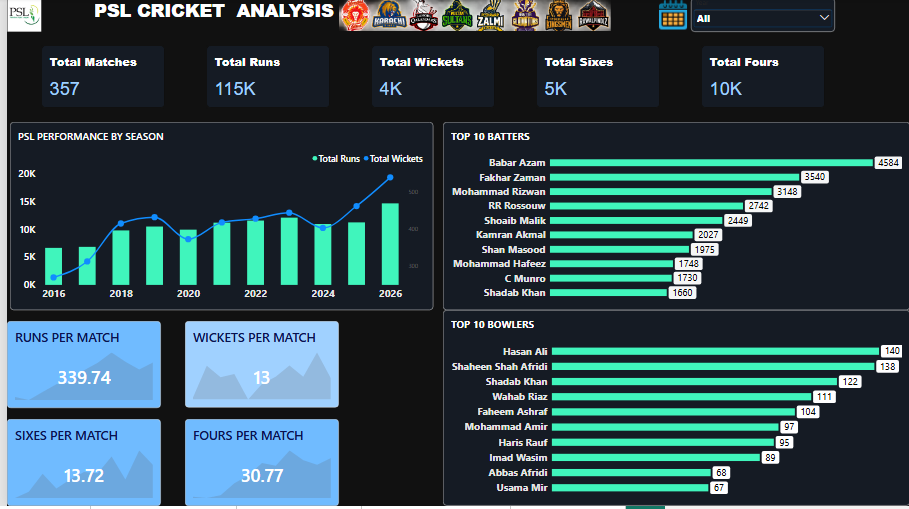

This screenshot's page, from the dashboard's own definition file:
{"tool":"powerbi","page":{"name":"Executive Overview","canvas":[1920,1080],"ordinal":1},"visuals":[{"type":"textbox","box":[10,0,280,280],"z":0},{"type":"textbox","box":[10,580,280,280],"z":1000},{"type":"textbox","box":[185,0,520.9,102],"z":3000},{"type":"cardVisual","fields":{"Data":["PSL_ball_by_ball_merged.Total Matches"]},"box":[74.4,102,260,130],"z":4000},{"type":"cardVisual","fields":{"Data":["PSL_ball_by_ball_merged.Total Wickets"]},"box":[776,102,260,130],"z":5000},{"type":"cardVisual","fields":{"Data":["PSL_ball_by_ball_merged.Total Fours"]},"box":[1477.6,102,260,130],"z":6000},{"type":"cardVisual","fields":{"Data":["PSL_ball_by_ball_merged.Total Sixes"]},"box":[1126.8,102,260,130],"z":7000},{"type":"cardVisual","fields":{"Data":["PSL_ball_by_ball_merged.Total Runs"]},"box":[425.2,102,260,130],"z":8000},{"type":"slicer","fields":{"Values":["PSL_match_info.date.Variation.Date Hierarchy.Year"]},"box":[1454.2,0,306.1,72.3],"z":8001},{"type":"image","box":[1386.1,0,59.5,70.2],"z":8002},{"type":"image","box":[0,0,74.4,72.3],"z":8003},{"type":"lineClusteredColumnComboChart","title":"PSL PERFORMANCE BY SEASON","fields":{"Category":["PSL_match_info.date.Variation.Date Hierarchy.Year"],"Y":["PSL_ball_by_ball_merged.Total Runs"],"Y2":["PSL_ball_by_ball_merged.Total Wickets"]},"box":[6.4,263.6,900,400],"z":8004},{"type":"clusteredBarChart","title":"TOP 10 BATTERS","fields":{"Category":["PSL_players.player"],"Y":["PSL_ball_by_ball_merged.Total Runs"]},"box":[927.9,262.8,993,400],"z":8005},{"type":"clusteredBarChart","title":"TOP 10 BOWLERS","fields":{"Category":["PSL_ball_by_ball_merged.bowler"],"Y":["PSL_ball_by_ball_merged.Bowler wicket"]},"box":[927.9,662.8,993,416.3],"z":8006},{"type":"kpi","title":"RUNS PER MATCH","fields":{"Indicator":["PSL_ball_by_ball_merged.Average runs"],"TrendLine":["PSL_match_info.date.Variation.Date Hierarchy.Year"]},"box":[0,686.7,327.4,185],"z":8007},{"type":"kpi","title":"WICKETS PER MATCH","fields":{"Indicator":["PSL_ball_by_ball_merged.Wickets per match"],"TrendLine":["PSL_match_info.date.Variation.Date Hierarchy.Year"]},"box":[378.4,686.7,327,184],"z":8008},{"type":"image","box":[705.8,4.3,578.3,65.9],"z":8009},{"type":"kpi","title":"SIXES PER MATCH","fields":{"Indicator":["PSL_ball_by_ball_merged.Sixes per match"],"TrendLine":["PSL_match_info.date.Variation.Date Hierarchy.Year"]},"box":[0,895,327.4,185],"z":8010},{"type":"kpi","title":"FOURS PER MATCH","fields":{"Indicator":["PSL_ball_by_ball_merged.Fours per match"],"TrendLine":["PSL_match_info.date.Variation.Date Hierarchy.Year"]},"box":[378.4,895,327.4,185],"z":8011}]}

Visuals, with their boxes in screenshot pixels (x1, y1, x2, y2), scaled from the page's 1920x1080 canvas onto the 909x509 screenshot:
textbox: [left=5, top=0, right=137, bottom=132]
textbox: [left=5, top=273, right=137, bottom=405]
textbox: [left=88, top=0, right=334, bottom=48]
cardVisual - PSL_ball_by_ball_merged.Total Matches: [left=35, top=48, right=158, bottom=109]
cardVisual - PSL_ball_by_ball_merged.Total Wickets: [left=367, top=48, right=490, bottom=109]
cardVisual - PSL_ball_by_ball_merged.Total Fours: [left=700, top=48, right=823, bottom=109]
cardVisual - PSL_ball_by_ball_merged.Total Sixes: [left=533, top=48, right=657, bottom=109]
cardVisual - PSL_ball_by_ball_merged.Total Runs: [left=201, top=48, right=324, bottom=109]
slicer - PSL_match_info.date.Variation.Date Hierarchy.Year: [left=688, top=0, right=833, bottom=34]
image: [left=656, top=0, right=684, bottom=33]
image: [left=0, top=0, right=35, bottom=34]
"PSL PERFORMANCE BY SEASON" lineClusteredColumnComboChart: [left=3, top=124, right=429, bottom=313]
"TOP 10 BATTERS" clusteredBarChart: [left=439, top=124, right=908, bottom=312]
"TOP 10 BOWLERS" clusteredBarChart: [left=439, top=312, right=908, bottom=508]
"RUNS PER MATCH" kpi: [left=0, top=324, right=155, bottom=411]
"WICKETS PER MATCH" kpi: [left=179, top=324, right=334, bottom=410]
image: [left=334, top=2, right=608, bottom=33]
"SIXES PER MATCH" kpi: [left=0, top=422, right=155, bottom=508]
"FOURS PER MATCH" kpi: [left=179, top=422, right=334, bottom=508]
